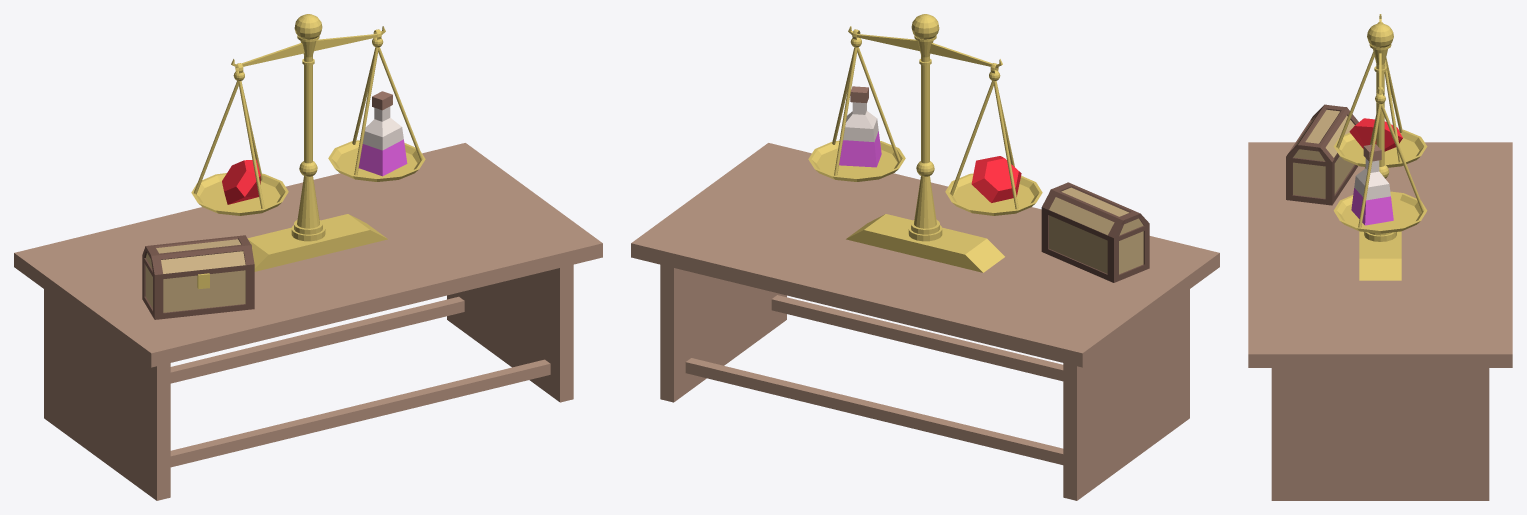
The model's file is Phsycian_Table.fbx.
3 renders of one model, left to right at view 1: azimuth 30°, elevation 25°; view 2: azimuth 150°, elevation 25°; view 3: azimuth 270°, elevation 25°, orthographic. The views are drawn at different scales.
Visible parts, largest first — view 1: Phsycian_Table_Geo, Scale_Geo, Chest_Geo; view 2: Phsycian_Table_Geo, Scale_Geo, Chest_Geo; view 3: Phsycian_Table_Geo, Scale_Geo, Chest_Geo.
Boxes of the visible parts, <box> form: Phsycian_Table_Geo: <box>14,143,602,500</box>; Scale_Geo: <box>191,14,425,271</box>; Chest_Geo: <box>142,235,254,319</box>; Phsycian_Table_Geo: <box>631,143,1219,500</box>; Scale_Geo: <box>808,14,1042,272</box>; Chest_Geo: <box>1041,182,1149,282</box>; Phsycian_Table_Geo: <box>1248,142,1512,500</box>; Scale_Geo: <box>1333,14,1427,280</box>; Chest_Geo: <box>1286,104,1358,205</box>.
Bounding box in the file's own units: 74.32 × 61.91 × 39.15.
